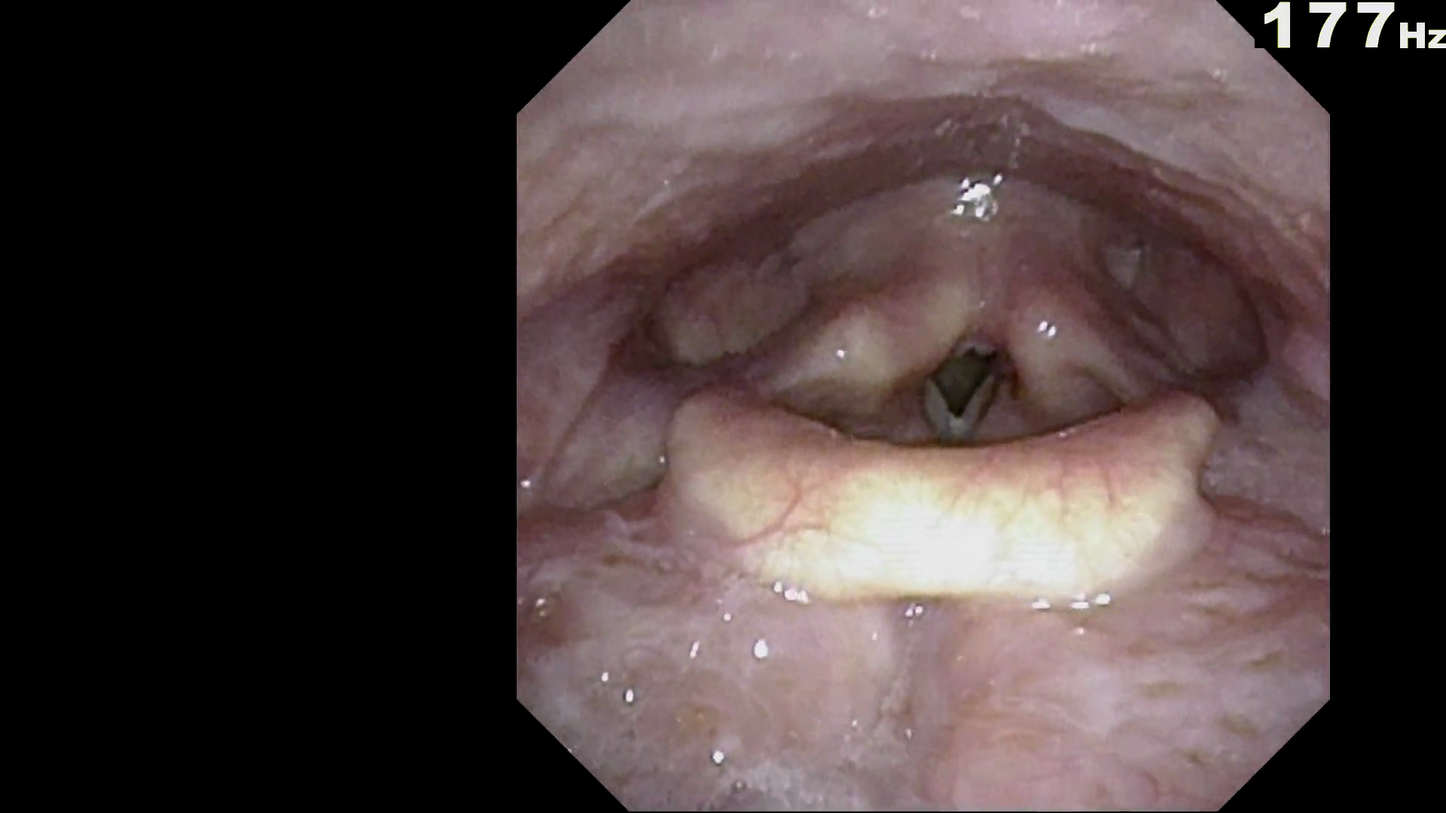epiglottis: (626, 325, 1224, 604)
trachea: (884, 256, 1070, 490), (926, 322, 1017, 445)
